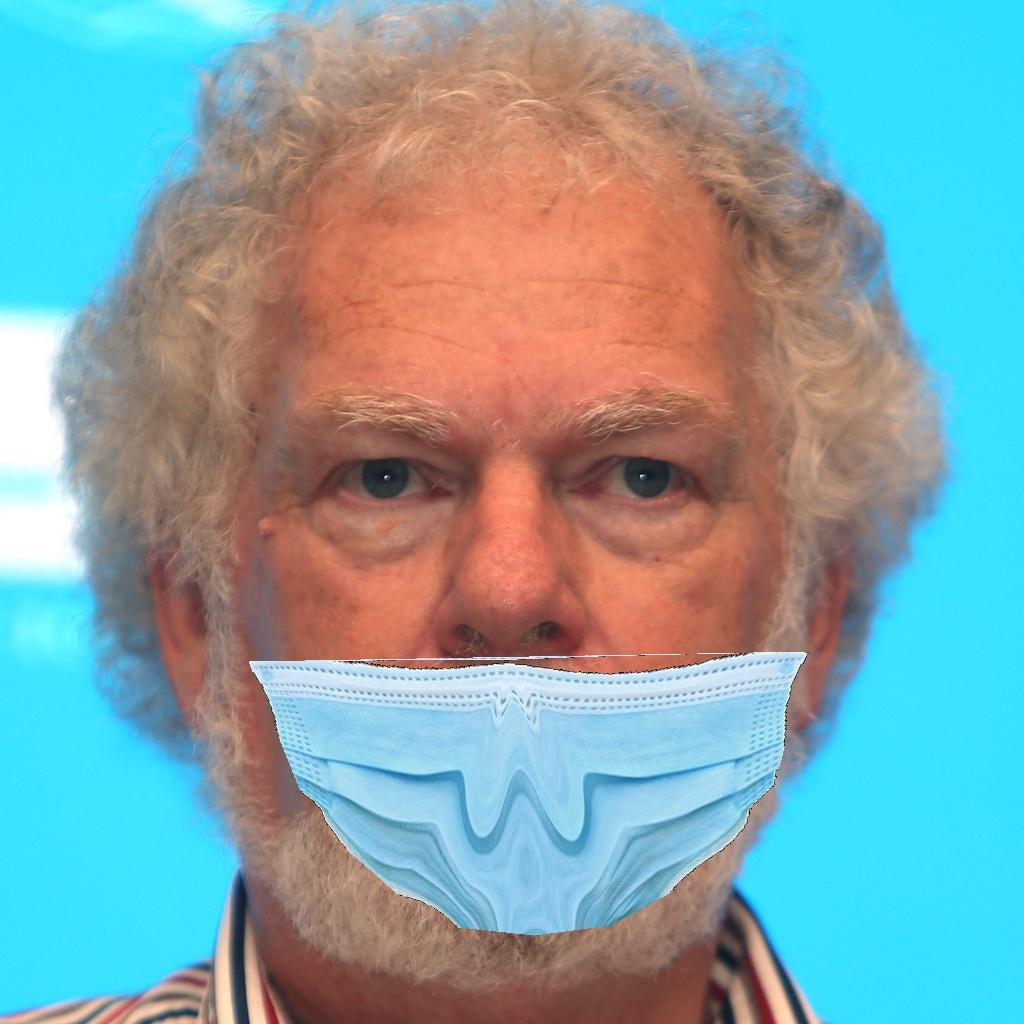Máscara Incorreta: (248, 264, 807, 934)
